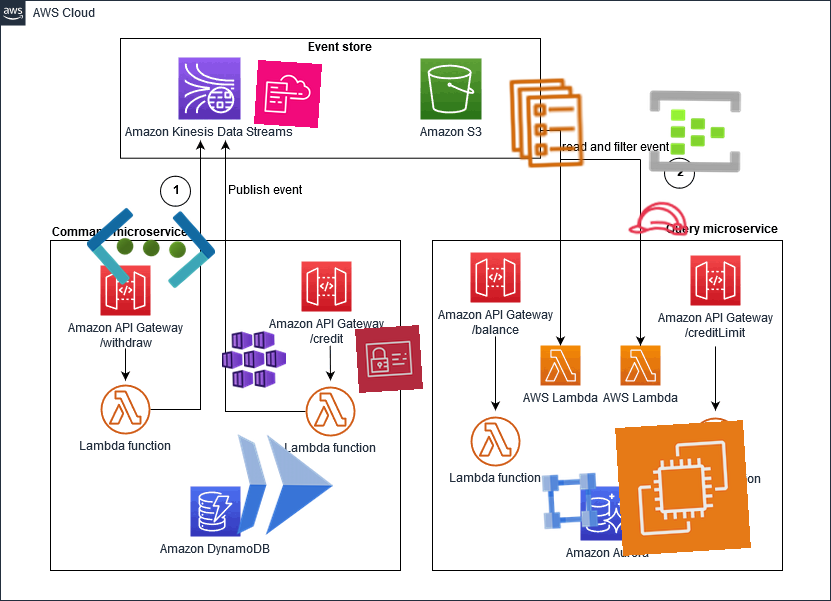aws_amazon_ec2: (615, 420, 751, 556)
aws_cloudformation: (254, 60, 322, 128)
aws_elastic_container_service_service: (497, 73, 597, 173)
aws_identity_access_management_role: (624, 184, 694, 254)
aws_identity_and_access_management: (355, 325, 423, 393)
azure_event_hubs: (646, 82, 744, 180)
azure_kubernetes_services: (221, 326, 287, 392)
azure_virtual_networks: (83, 180, 219, 316)
gcp_cloud_run: (218, 420, 348, 550)
gcp_virtual_private_cloud: (536, 467, 604, 535)
